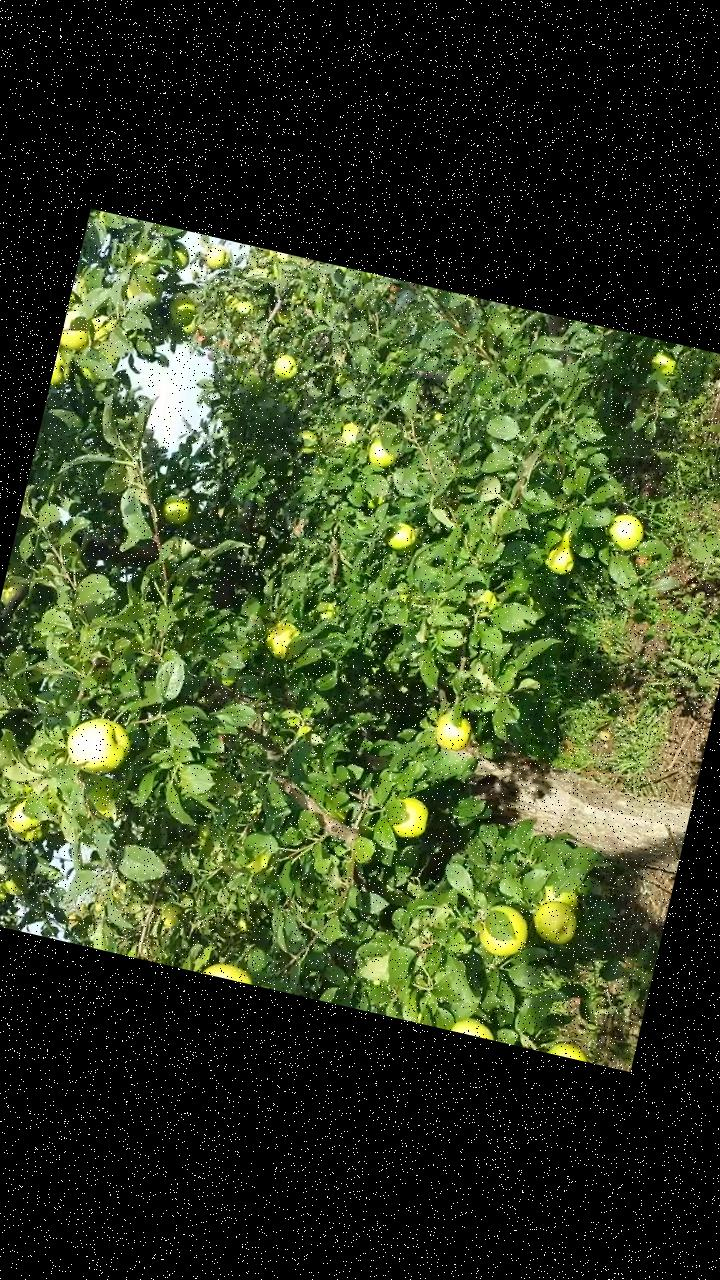Apple: (56, 710, 138, 780), (472, 896, 534, 958), (528, 896, 582, 948), (76, 769, 125, 820), (601, 509, 651, 558), (386, 788, 432, 840), (256, 614, 304, 663), (58, 304, 99, 355), (196, 952, 258, 984), (428, 709, 472, 754), (0, 568, 37, 618), (1, 796, 44, 836), (121, 268, 166, 306), (360, 434, 400, 474), (538, 537, 579, 576), (3, 811, 46, 848), (536, 877, 580, 913), (48, 342, 78, 393), (382, 518, 420, 558), (156, 490, 195, 528), (445, 1010, 497, 1038), (162, 290, 197, 328), (644, 342, 678, 379), (82, 310, 115, 346), (547, 1032, 589, 1060), (290, 422, 321, 456), (268, 349, 300, 381), (0, 864, 30, 898), (154, 899, 186, 930), (200, 240, 231, 271), (334, 419, 362, 453), (165, 239, 191, 274), (473, 584, 502, 612), (310, 596, 339, 622), (176, 310, 199, 334), (234, 295, 254, 315), (219, 292, 238, 310), (0, 877, 10, 905)
